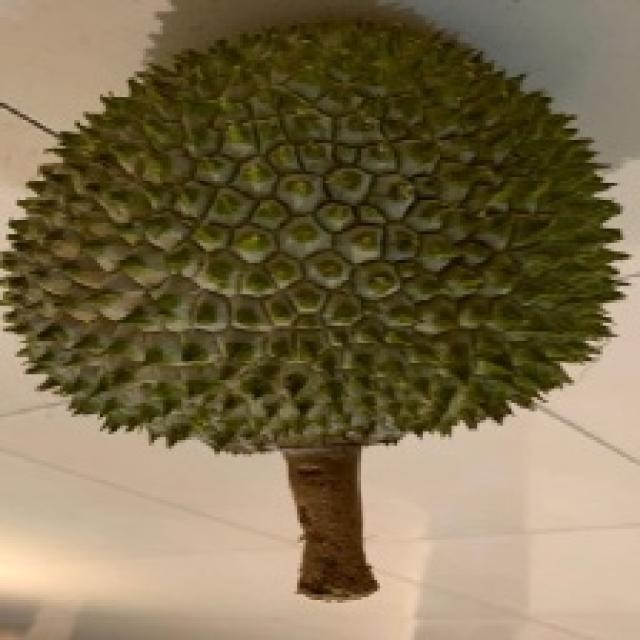d175: (17, 22, 632, 589)
